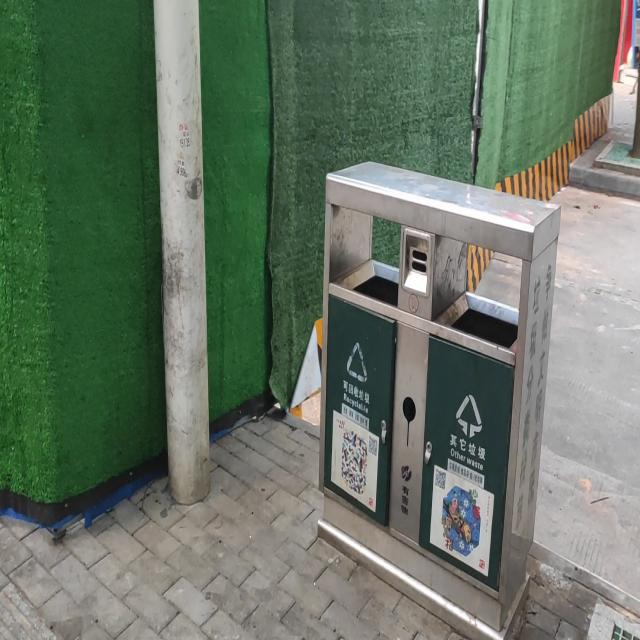ash bin: (316, 160, 562, 640)
pole: (147, 4, 214, 504)
